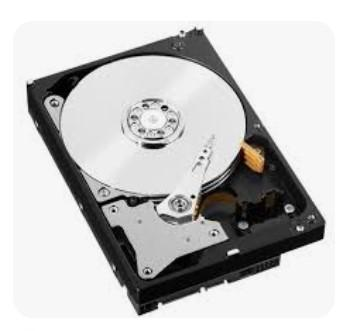internal HDD: (26, 29, 326, 316)
